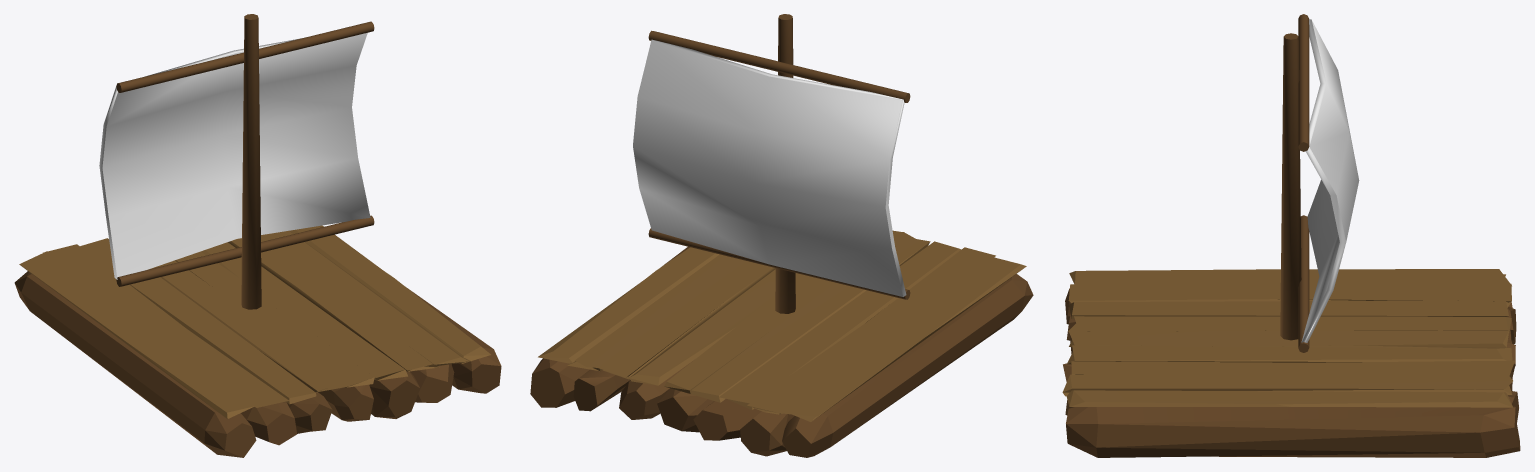
The model's file is Raft.fbx.
The picture shows the model from 3 angles, left to right: view 1: azimuth 30°, elevation 25°; view 2: azimuth 150°, elevation 25°; view 3: azimuth 270°, elevation 25°; orthographic projection. The views are drawn at different scales.
Visible parts, largest first — view 1: Planks, Sail, RafftBase, Pole, Pole.001; view 2: Sail, Planks, RafftBase, Pole.001, Pole; view 3: Planks, RafftBase, Sail, Pole, Pole.001.
Boxes of the visible parts, box(x1,y1,x2,y2) form: Planks: box(19, 225, 490, 418); Sail: box(99, 32, 370, 279); RafftBase: box(14, 271, 501, 457); Pole: box(241, 14, 261, 309); Pole.001: box(116, 21, 374, 286); Sail: box(633, 39, 906, 296); Planks: box(538, 230, 1026, 421); RafftBase: box(530, 246, 1033, 457); Pole.001: box(648, 30, 910, 299); Pole: box(775, 14, 795, 313); Planks: box(1062, 269, 1514, 407); RafftBase: box(1063, 288, 1520, 457); Sail: box(1301, 19, 1359, 342); Pole: box(1280, 33, 1301, 340); Pole.001: box(1298, 14, 1309, 352).
Bounding box in the file's own units: 355 × 397 × 460.
